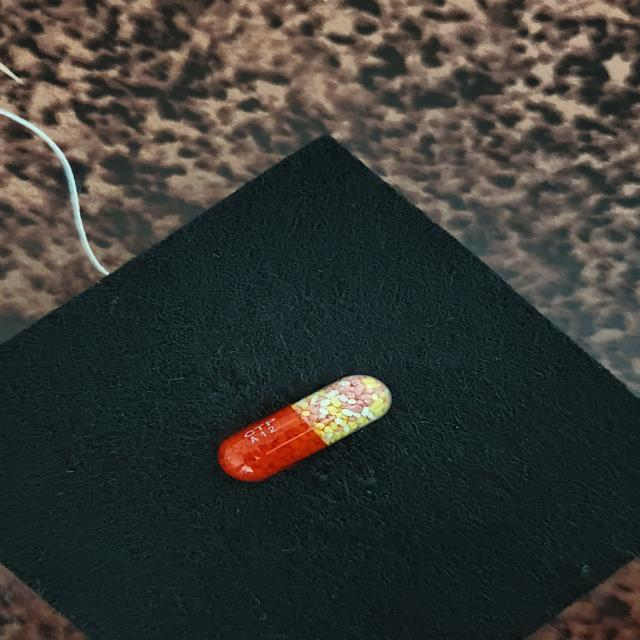Intact Capsule: (218, 375, 392, 481)
